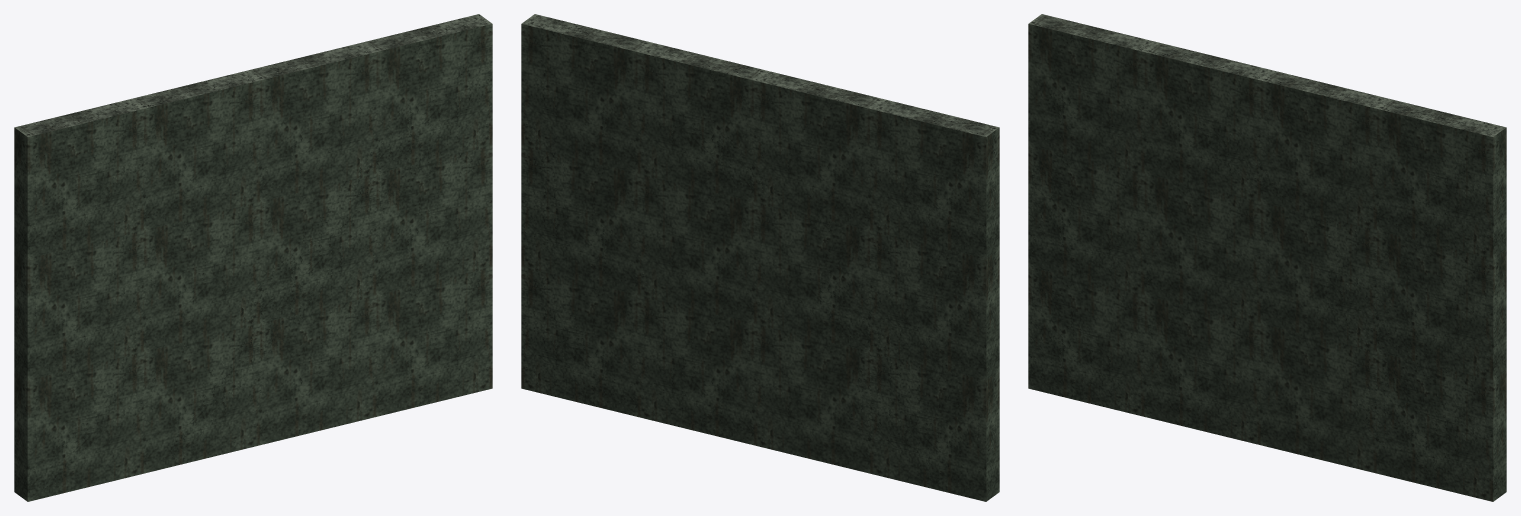
Rendered from SM_Wall_Concrete_4m.fbx.
The picture shows the model from 3 angles, left to right: view 1: azimuth 30°, elevation 25°; view 2: azimuth 150°, elevation 25°; view 3: azimuth 330°, elevation 25°; orthographic projection.
Visible parts, largest first — view 1: SM_Wall_Concrete_4m; view 2: SM_Wall_Concrete_4m; view 3: SM_Wall_Concrete_4m.
Part boxes in pixels (x1,y1,x2,y2): SM_Wall_Concrete_4m: (14,14,492,501); SM_Wall_Concrete_4m: (521,14,999,501); SM_Wall_Concrete_4m: (1028,14,1506,501).
Size of the model in its own units: 4 by 3 by 0.2.
